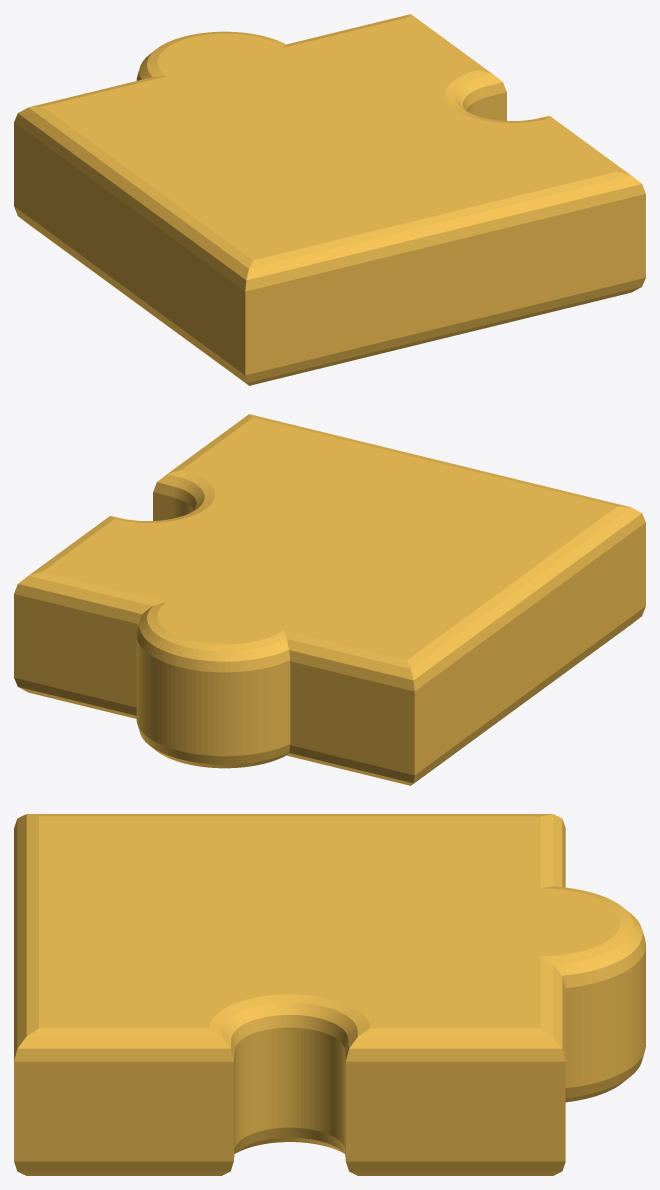
The model's file is puzel.glb.
The picture shows the model from 3 angles, top to bottom: view 1: azimuth 30°, elevation 25°; view 2: azimuth 150°, elevation 25°; view 3: azimuth 270°, elevation 25°; orthographic projection. The views are drawn at different scales.
Visible parts, largest first — view 1: puzel; view 2: puzel; view 3: puzel.
Boxes of the visible parts, box(x1,y1,x2,y2) form: puzel: box(14, 14, 645, 385); puzel: box(14, 414, 645, 785); puzel: box(14, 814, 645, 1175).
Bounding box in the file's own units: 1.1 × 0.32 × 1.26.
